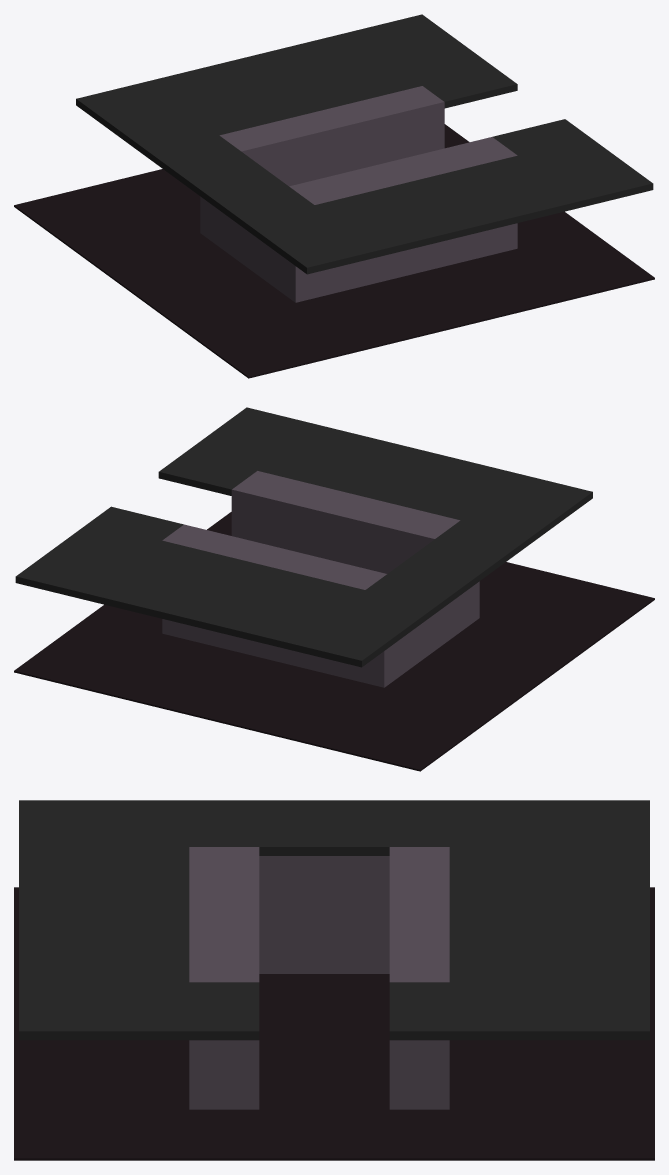
File: estructura_2.obj
The picture shows the model from 3 angles, top to bottom: view 1: azimuth 30°, elevation 25°; view 2: azimuth 150°, elevation 25°; view 3: azimuth 270°, elevation 25°; orthographic projection. The views are drawn at different scales.
Size of the model in its own units: 25.6 by 5.7 by 25.6.
Materials: 1 (1 with a texture image).
